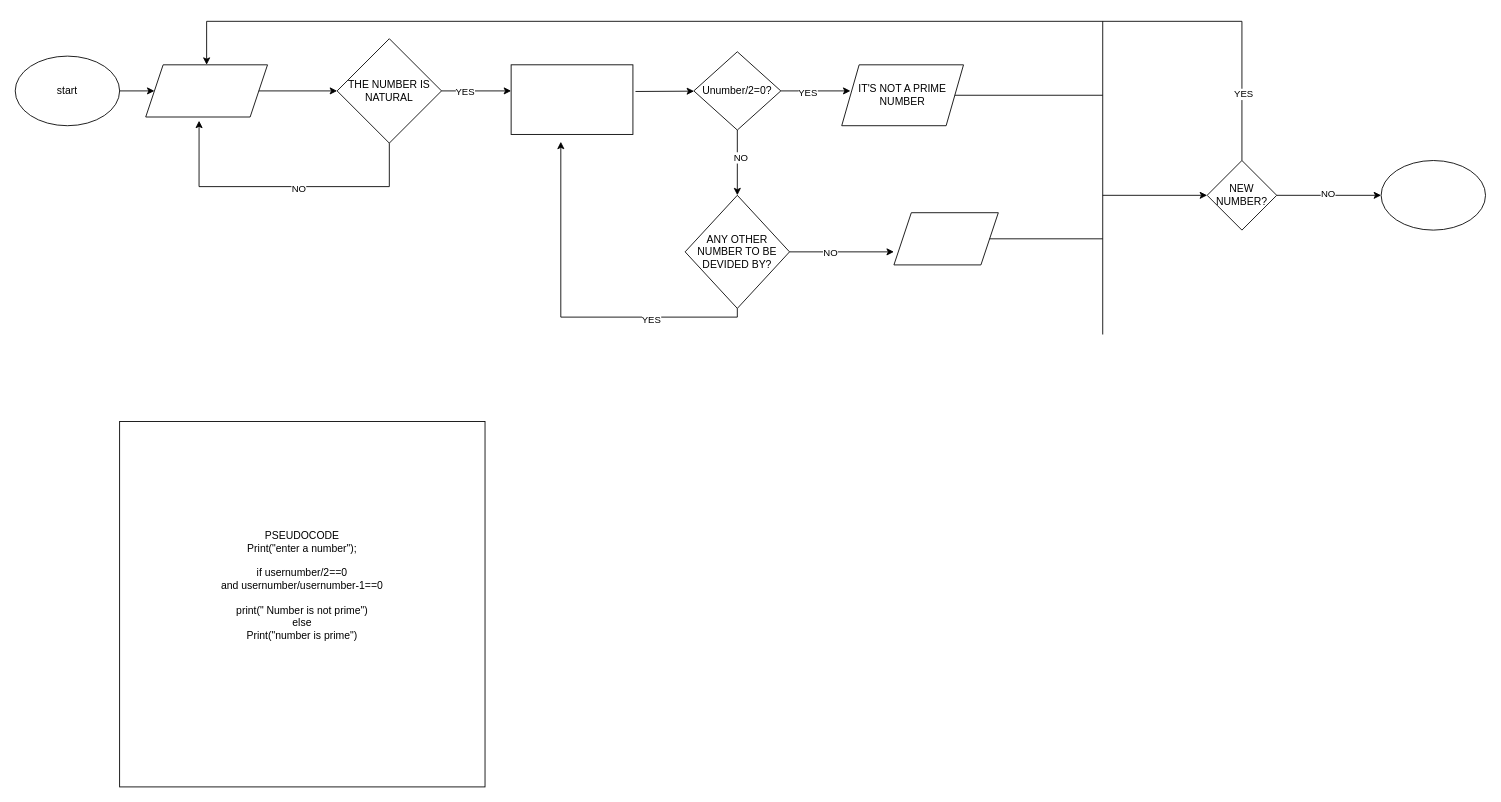
This 1501x802 diagram has some shape labels left out. The centre of each missing label's shape, as x and y in pixels:
"DEVIDE USERNUMBER BY ALL THE NUMBERS BETWEEN 2 AND USERNUMBER-1" belongs at point (571, 99).
"END" belongs at point (1433, 195).
"ENTER A NATURAL NUMBER" belongs at point (206, 90).
"IT'S A PRIME NUMBER" belongs at point (945, 238).
